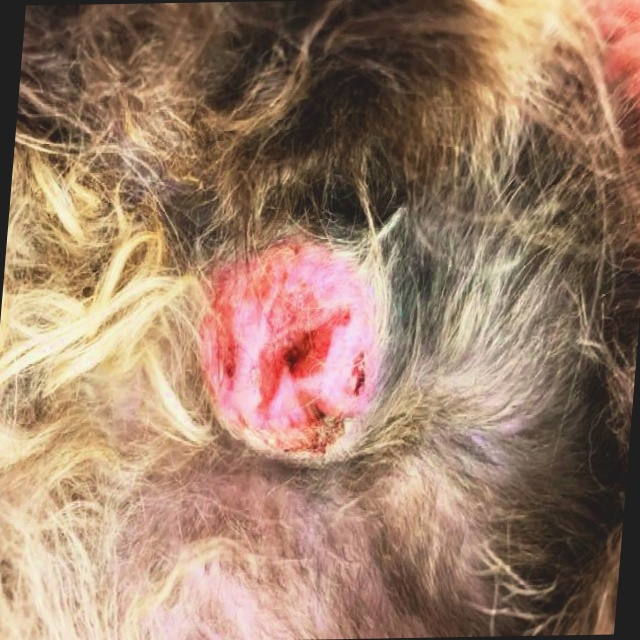lump_and_bump: (189, 235, 403, 492)
